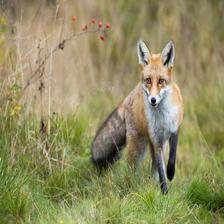fox: (85, 35, 189, 205)
